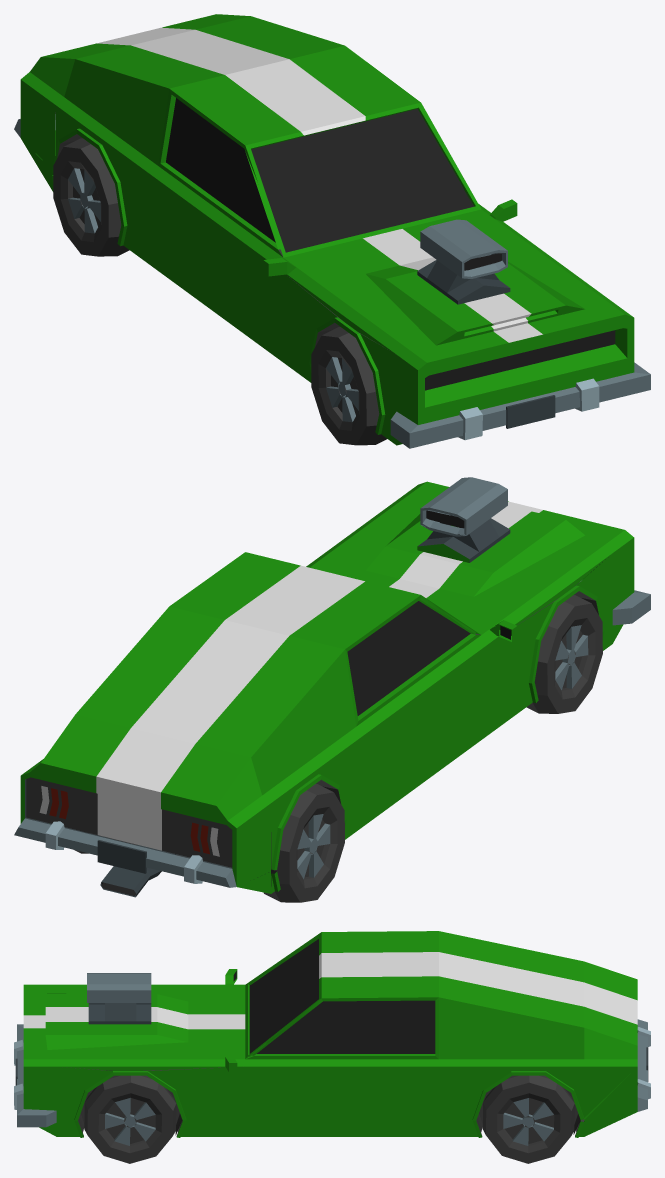
File: main_car_mob.glb
3 renders of one model, top to bottom at view 1: azimuth 30°, elevation 25°; view 2: azimuth 150°, elevation 25°; view 3: azimuth 270°, elevation 25°, orthographic. The views are drawn at different scales.
Parts seen in each view (by area): view 1: MuscleCarV1; view 2: MuscleCarV1; view 3: MuscleCarV1.
Part boxes in pixels (left/top/right/bottom): MuscleCarV1: left=14, top=14, right=650, bottom=448; MuscleCarV1: left=14, top=477, right=650, bottom=902; MuscleCarV1: left=14, top=931, right=650, bottom=1163.
Size of the model in its own units: 0.6381 by 0.5022 by 1.83.
Materials: 1 (1 with a texture image).
